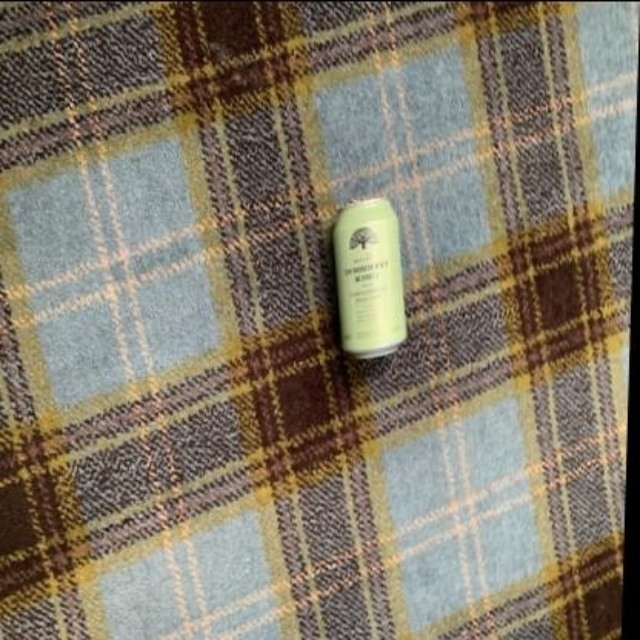trash: (334, 198, 405, 357)
